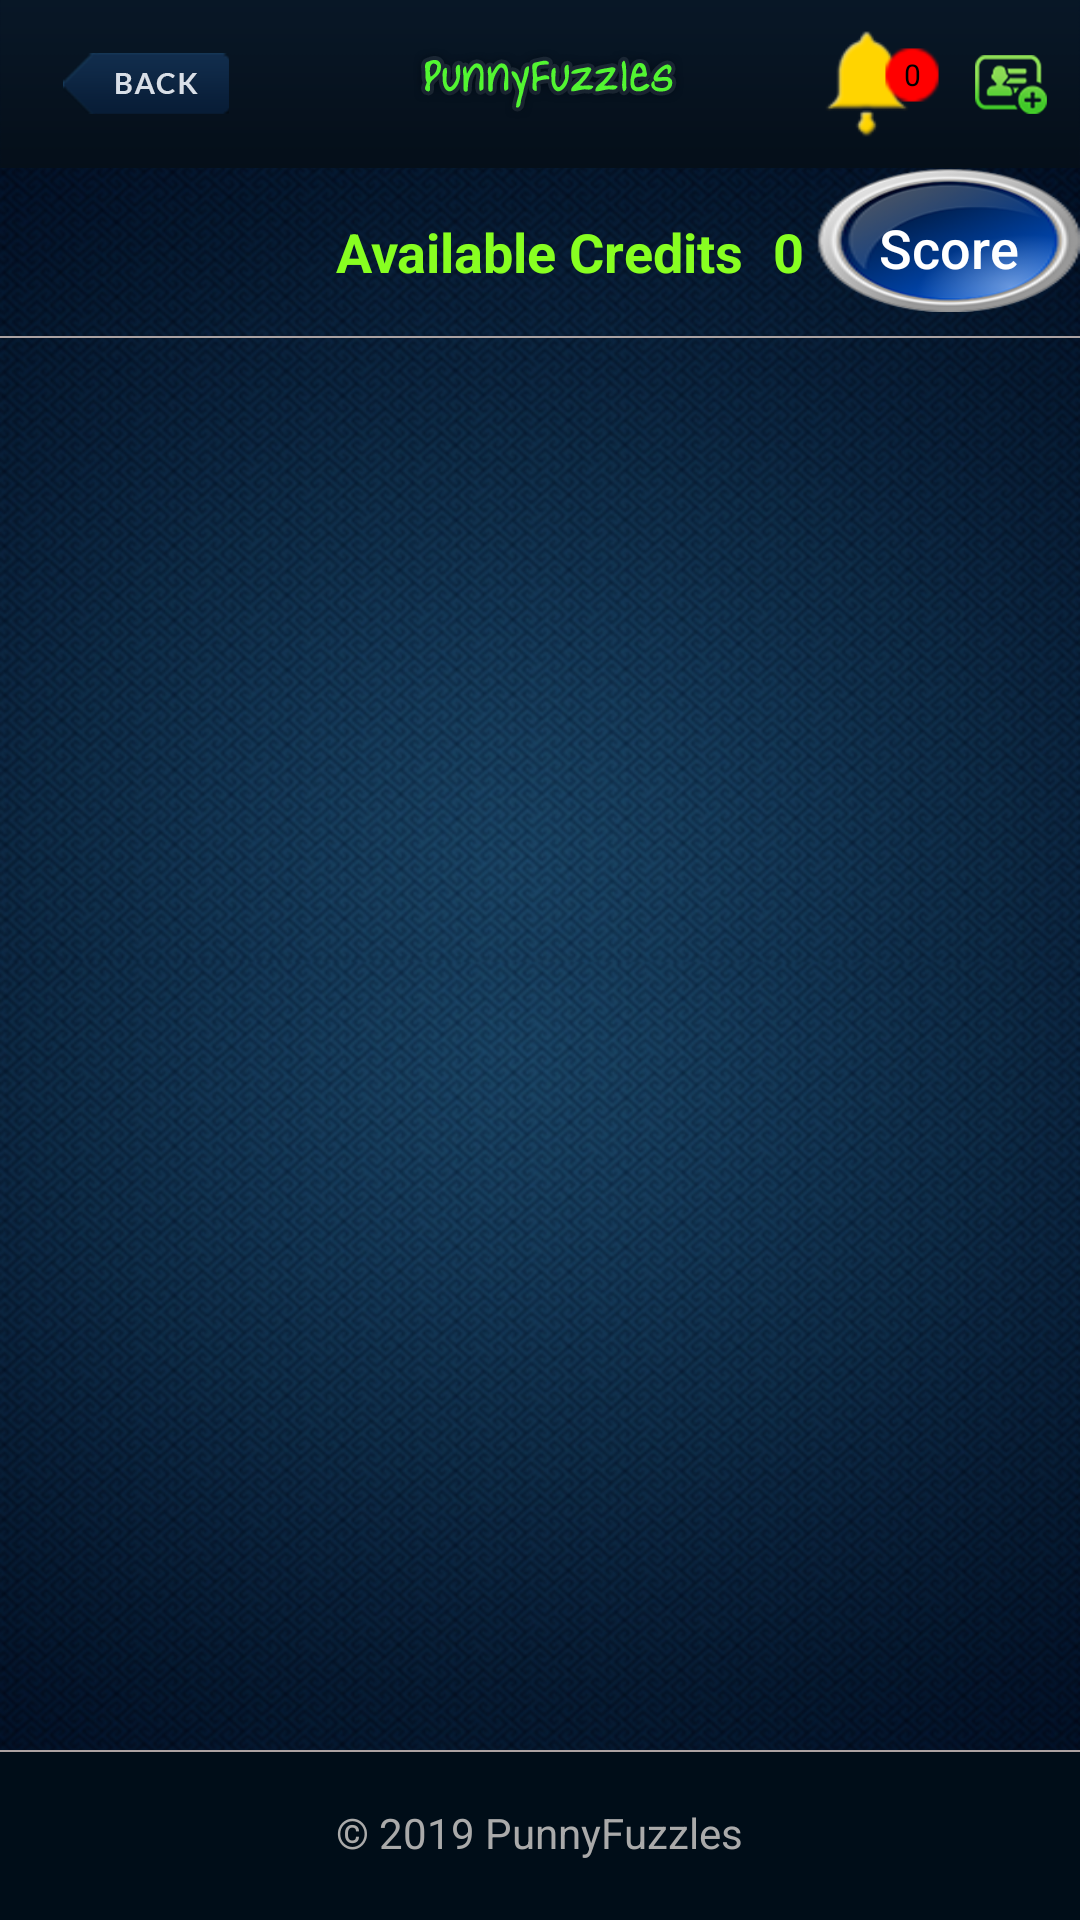

Where icons sit on this 1080 × 1920 app screen, as bbox(x1, y1, x2, y2):
invite: bbox(975, 55, 1047, 114)
